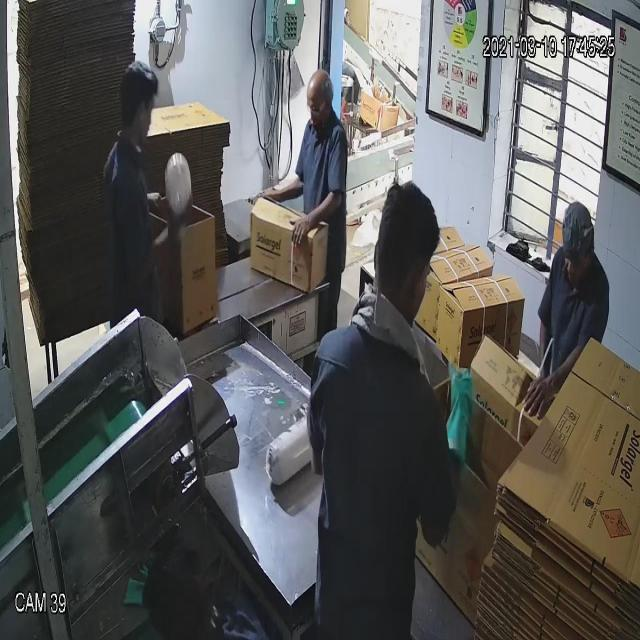No_Gloves: (50, 36, 556, 415)
